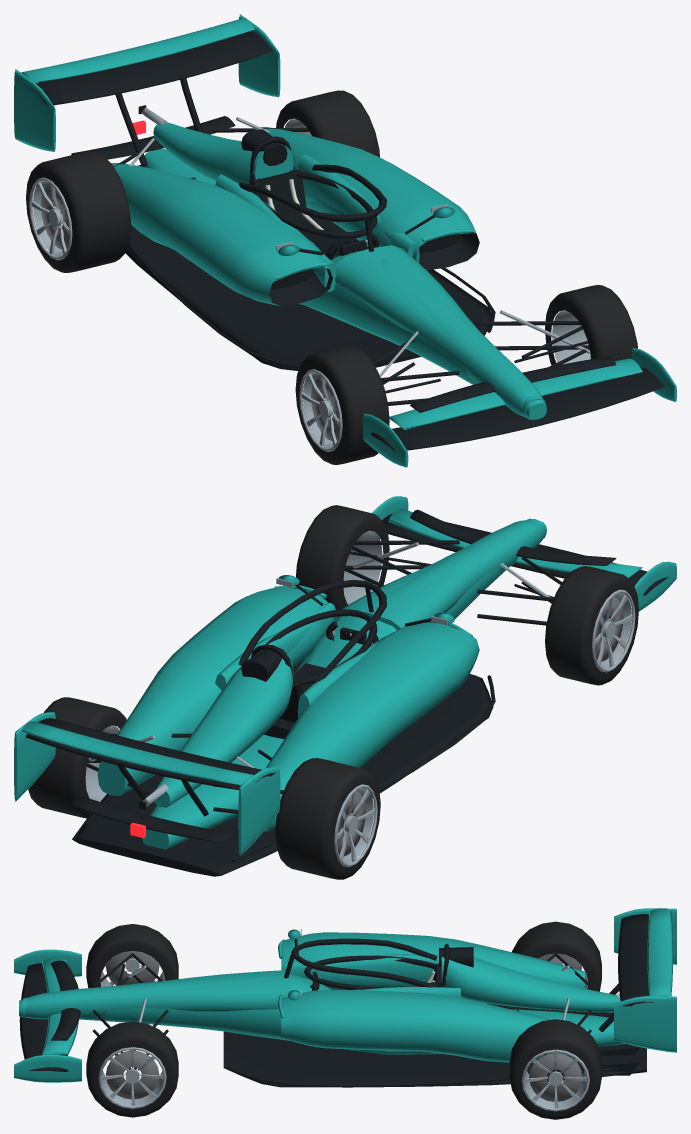
Rendered from apex-lod1.glb.
The picture shows the model from 3 angles, top to bottom: view 1: azimuth 30°, elevation 25°; view 2: azimuth 150°, elevation 25°; view 3: azimuth 270°, elevation 25°; orthographic projection. The views are drawn at different scales.
Parts seen in each view (by area): view 1: formula-keel_merged, contoured-floor_merged, profiled-tire (×4), rim-barrel_merged (×3), ventilated-brake-rotor (×2), pushrod_merged; view 2: formula-keel_merged, contoured-floor_merged, profiled-tire (×4), rim-barrel_merged (×4), ventilated-brake-rotor (×2), pushrod_merged; view 3: formula-keel_merged, contoured-floor_merged, profiled-tire (×4), ventilated-brake-rotor (×3), rim-barrel_merged (×3), pushrod_merged.
Boxes of the visible parts, bbox=[...] form: formula-keel_merged: bbox=[14, 14, 676, 467]; contoured-floor_merged: bbox=[28, 31, 664, 451]; profiled-tire (×4): bbox=[26, 90, 637, 464]; rim-barrel_merged (×3): bbox=[29, 177, 590, 451]; ventilated-brake-rotor (×2): bbox=[40, 185, 339, 440]; pushrod_merged: bbox=[129, 107, 590, 377]; formula-keel_merged: bbox=[14, 496, 676, 856]; contoured-floor_merged: bbox=[25, 509, 668, 876]; profiled-tire (×4): bbox=[28, 505, 638, 879]; rim-barrel_merged (×4): bbox=[85, 531, 635, 866]; ventilated-brake-rotor (×2): bbox=[337, 597, 623, 856]; pushrod_merged: bbox=[88, 542, 552, 806]; formula-keel_merged: bbox=[14, 908, 676, 1082]; contoured-floor_merged: bbox=[19, 914, 654, 1087]; profiled-tire (×4): bbox=[86, 921, 601, 1119]; ventilated-brake-rotor (×3): bbox=[106, 951, 582, 1101]; rim-barrel_merged (×3): bbox=[98, 956, 589, 1111]; pushrod_merged: bbox=[127, 929, 620, 1071].
Size of the model in its own units: 2.22 by 1.01 by 5.17.
8 materials, 1 textured.
